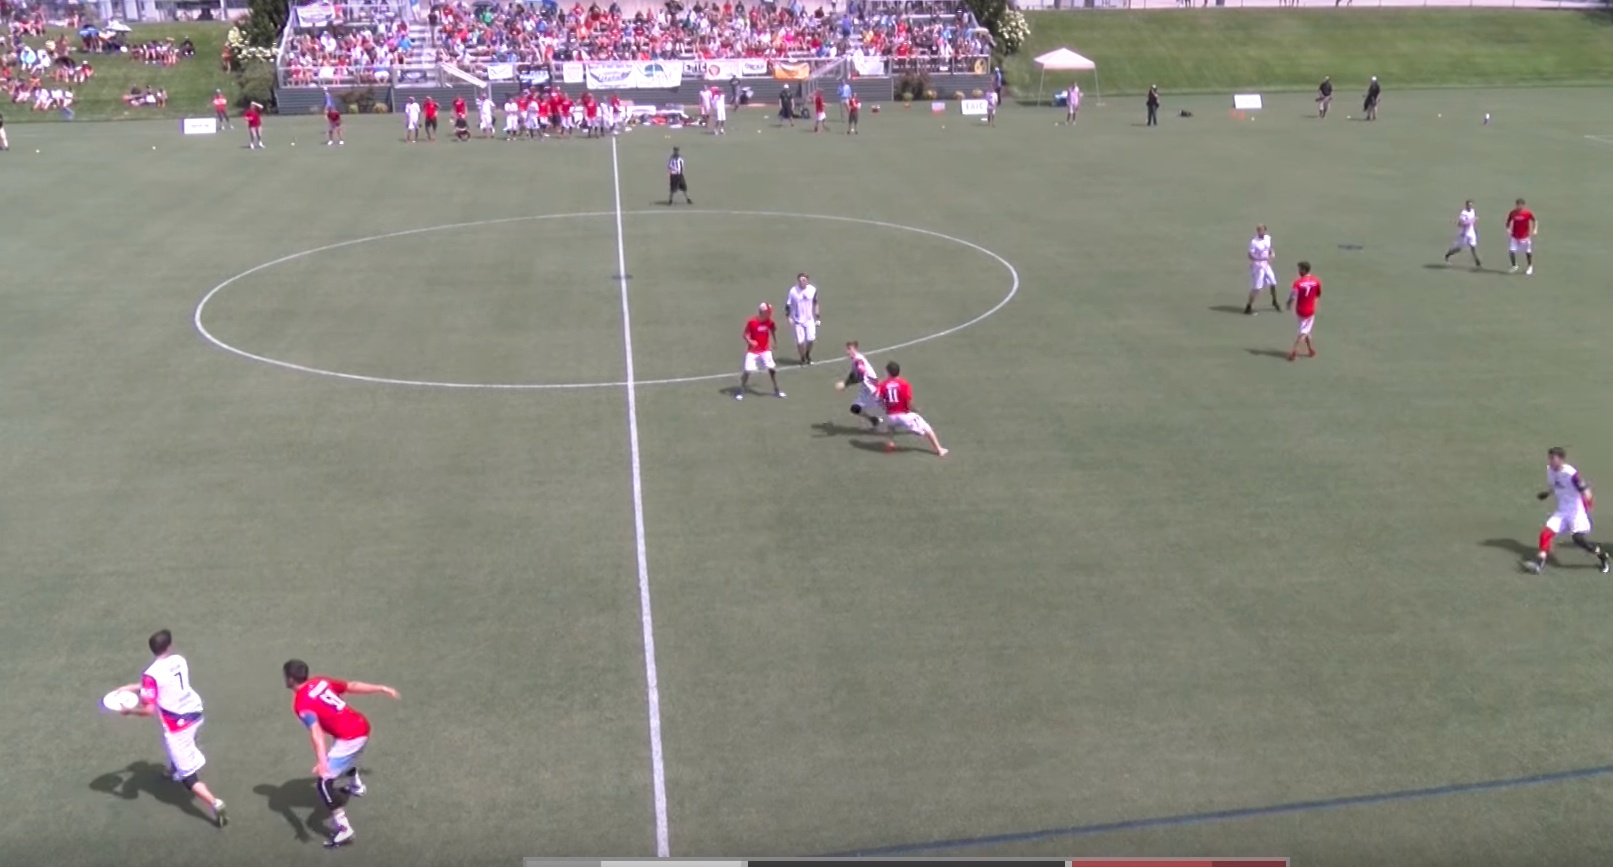frisbee: (102, 689, 140, 712)
